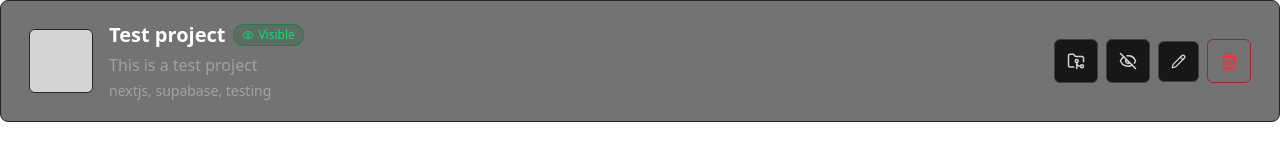
AdminProject › toggles project visibility
Expected: the text "Visible" is shown, [233,24,304,46]
Click the button titled "Hide".
click(1128, 61)  # box [1106,39,1150,83]
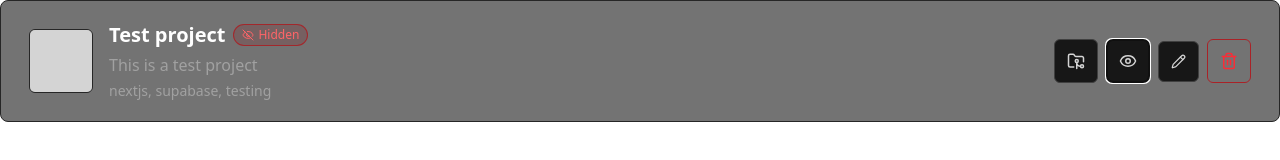
Expected: the text "Hidden" is shown, [233,24,308,46]
Expected: the button titled "Show" is shown, [1106,39,1150,83]
